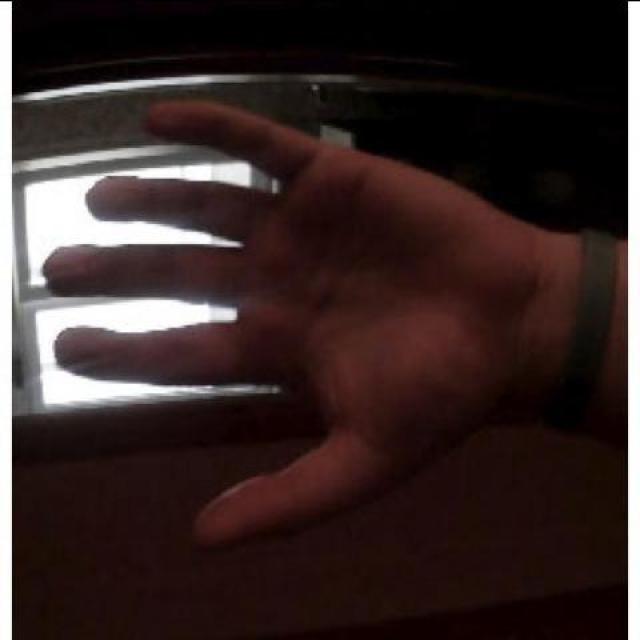Open Hand: (33, 83, 618, 558)
